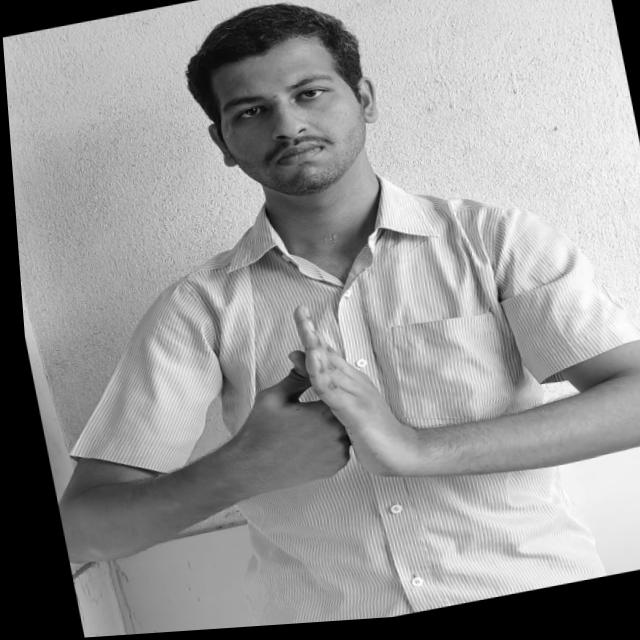Well Done: (229, 297, 396, 509)
